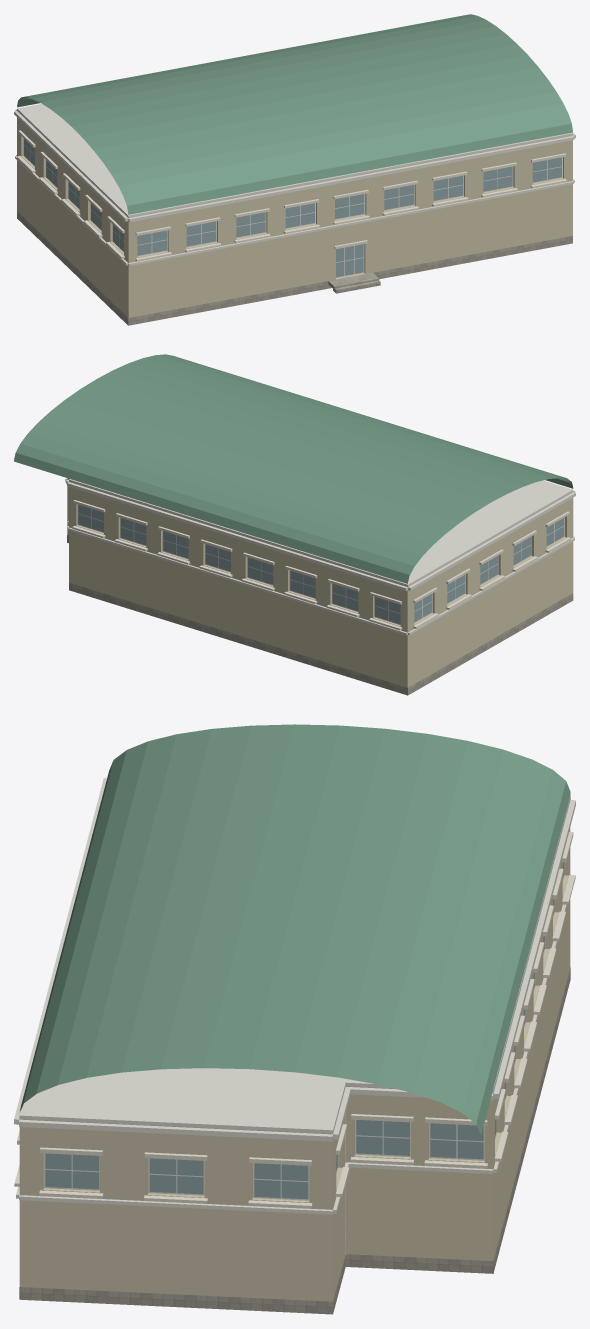
3 views of the same model, one above another, from view 1: azimuth 30°, elevation 25°; view 2: azimuth 150°, elevation 25°; view 3: azimuth 270°, elevation 25° (orthographic). The views are drawn at different scales.
Parts seen in each view (by area): view 1: gym__roof, gym__plaster, gym__cap, gym__glass, gym__stone, gym__lintel, gym__frame, gym__stair-front; view 2: gym__roof, gym__plaster, gym__cap, gym__glass, gym__stone, gym__lintel, gym__frame; view 3: gym__roof, gym__plaster, gym__cap, gym__glass, gym__lintel, gym__stone, gym__frame.
Part boxes in pixels (x1=…): gym__roof: x1=17, y1=14, x2=572, y2=214; gym__plaster: x1=17, y1=111, x2=572, y2=317; gym__cap: x1=14, y1=103, x2=575, y2=265; gym__glass: x1=24, y1=139, x2=561, y2=277; gym__stone: x1=17, y1=211, x2=572, y2=325; gym__lintel: x1=17, y1=130, x2=567, y2=261; gym__frame: x1=23, y1=138, x2=562, y2=277; gym__stair-front: x1=333, y1=277, x2=380, y2=293; gym__roof: x1=14, y1=354, x2=573, y2=583; gym__plaster: x1=67, y1=478, x2=573, y2=687; gym__cap: x1=65, y1=478, x2=575, y2=635; gym__glass: x1=78, y1=504, x2=564, y2=624; gym__stone: x1=67, y1=535, x2=573, y2=695; gym__lintel: x1=67, y1=500, x2=571, y2=630; gym__frame: x1=77, y1=505, x2=564, y2=624; gym__roof: x1=19, y1=724, x2=570, y2=1134; gym__plaster: x1=19, y1=803, x2=570, y2=1301; gym__cap: x1=14, y1=778, x2=575, y2=1214; gym__glass: x1=45, y1=862, x2=563, y2=1199; gym__lintel: x1=14, y1=832, x2=575, y2=1208; gym__stone: x1=19, y1=967, x2=570, y2=1314; gym__frame: x1=43, y1=862, x2=564, y2=1200.
Size of the model in its own units: 39.29 by 12.23 by 25.55.
Materials: 8 (2 with a texture image).
